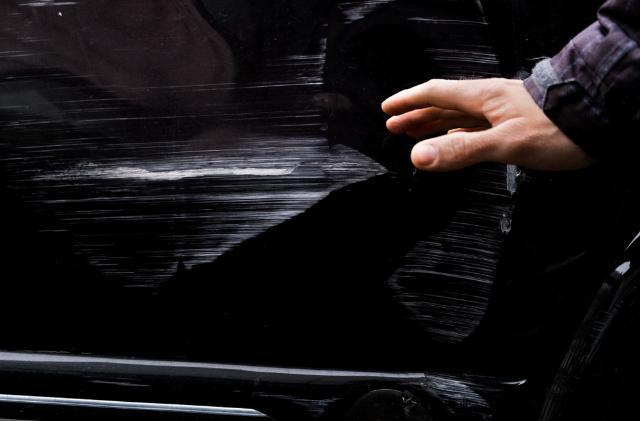scratch: (394, 164, 521, 345), (413, 0, 497, 73), (424, 372, 496, 415)
